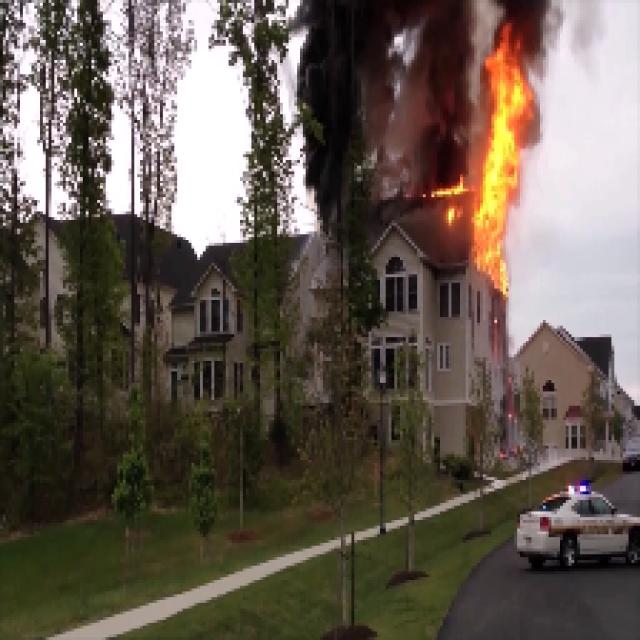fire: (482, 61, 530, 286)
smoke: (308, 6, 460, 196)
